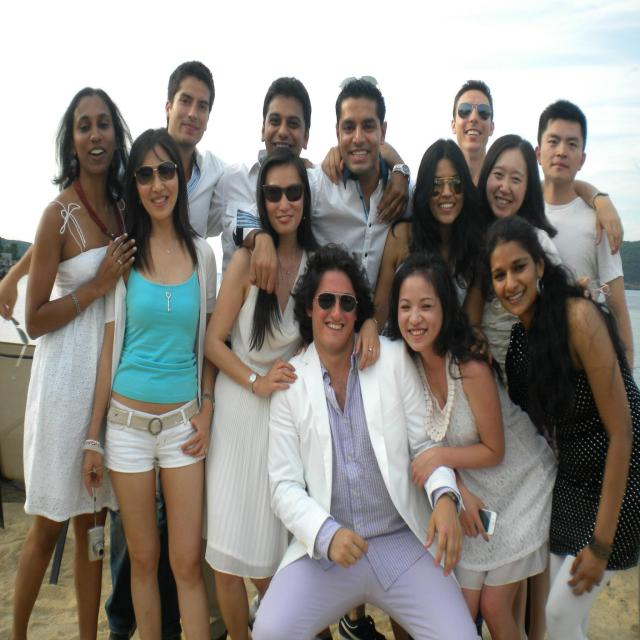body: (247, 238, 487, 640), (200, 143, 382, 640), (102, 56, 232, 640), (81, 125, 228, 640), (387, 245, 563, 640), (10, 85, 135, 640), (482, 210, 640, 640), (205, 76, 412, 273), (248, 80, 417, 297), (516, 96, 637, 377), (371, 137, 495, 362), (468, 132, 570, 396), (448, 78, 498, 184)
